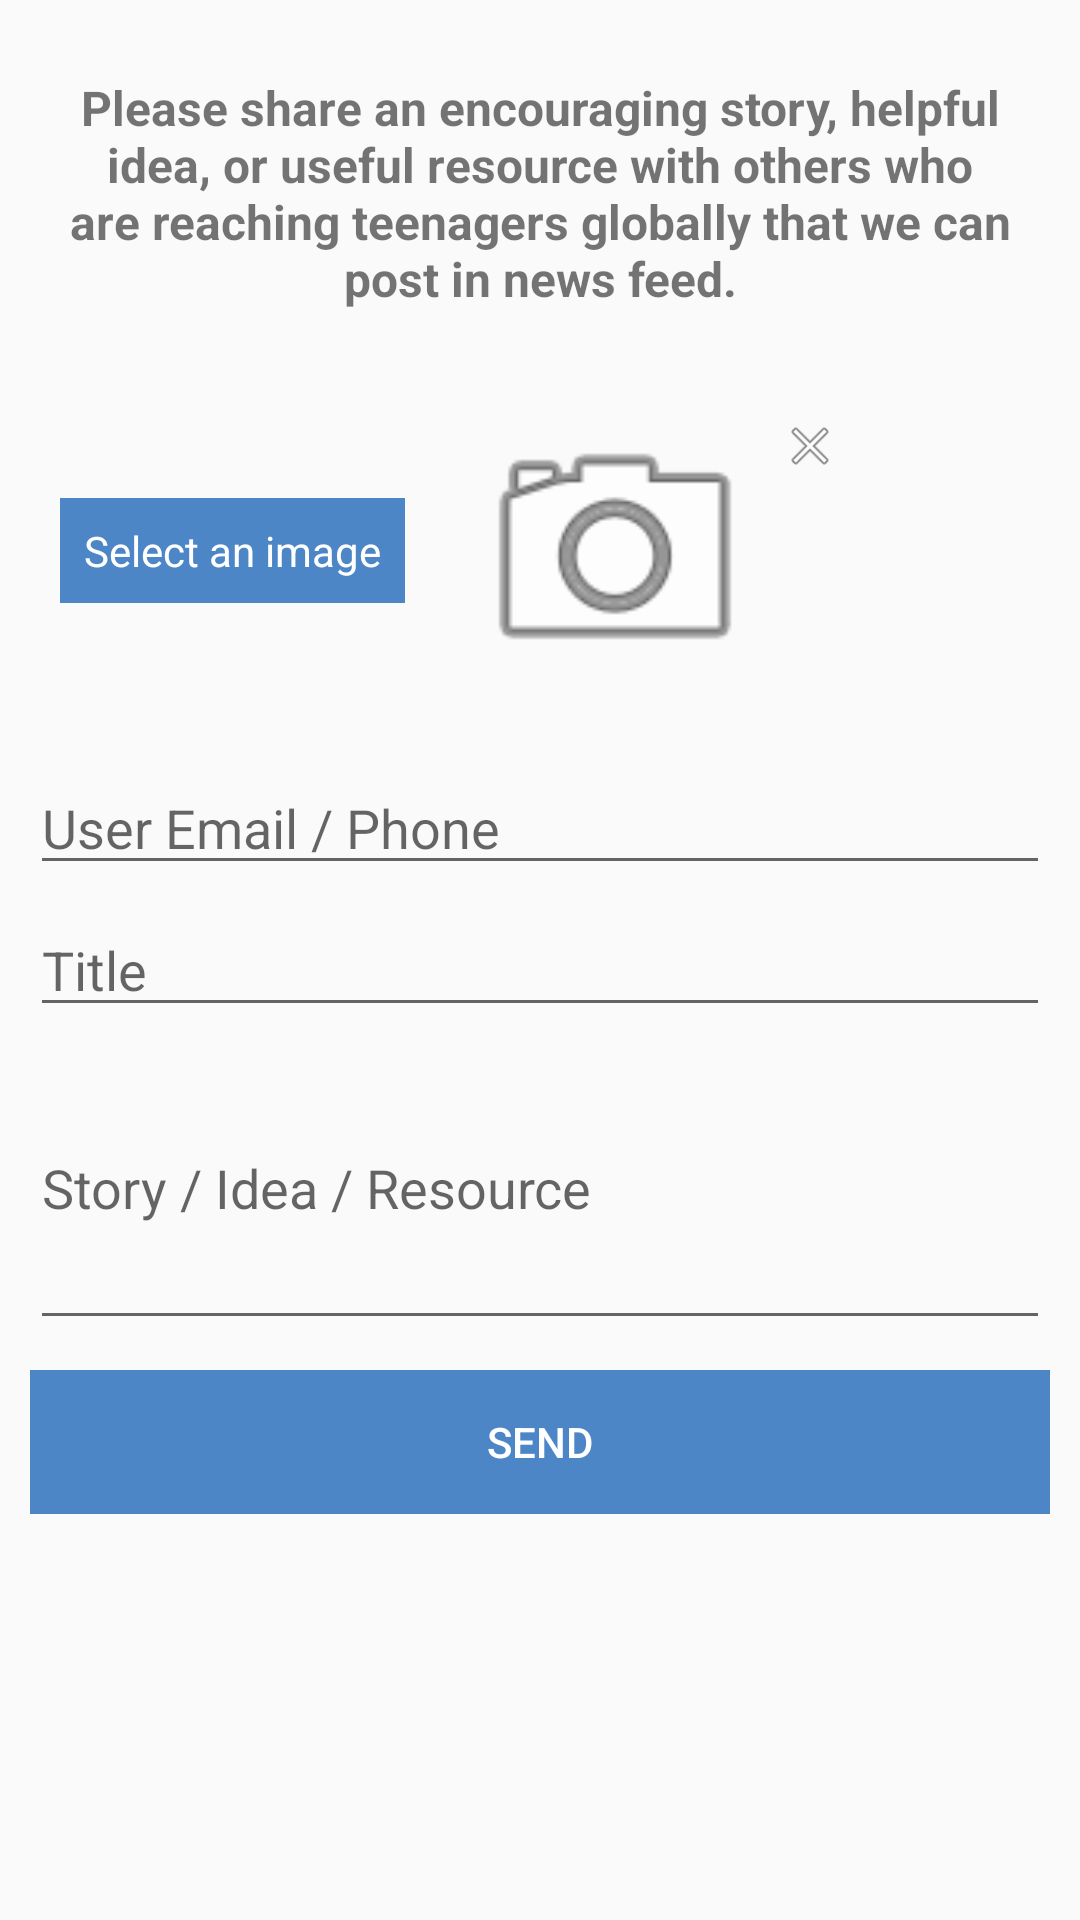

Where icons sit on this 1080x1920 app screen, as bbox=(x1, y1, x2, y2):
camera: bbox=(499, 454, 731, 639)
close clear cancel: bbox=(791, 427, 829, 465)
